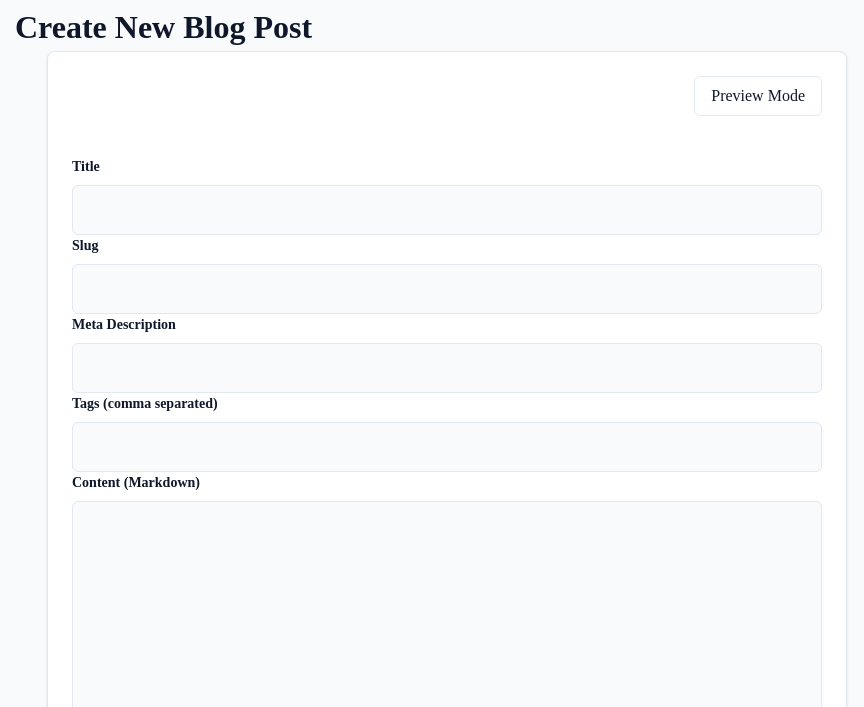
it: CreateBlogPostContainer › toggles preview mode with empty content
Switch to preview without adding content
Click the button "Preview Mode" at x=758, y=96, box [694, 76, 822, 116]
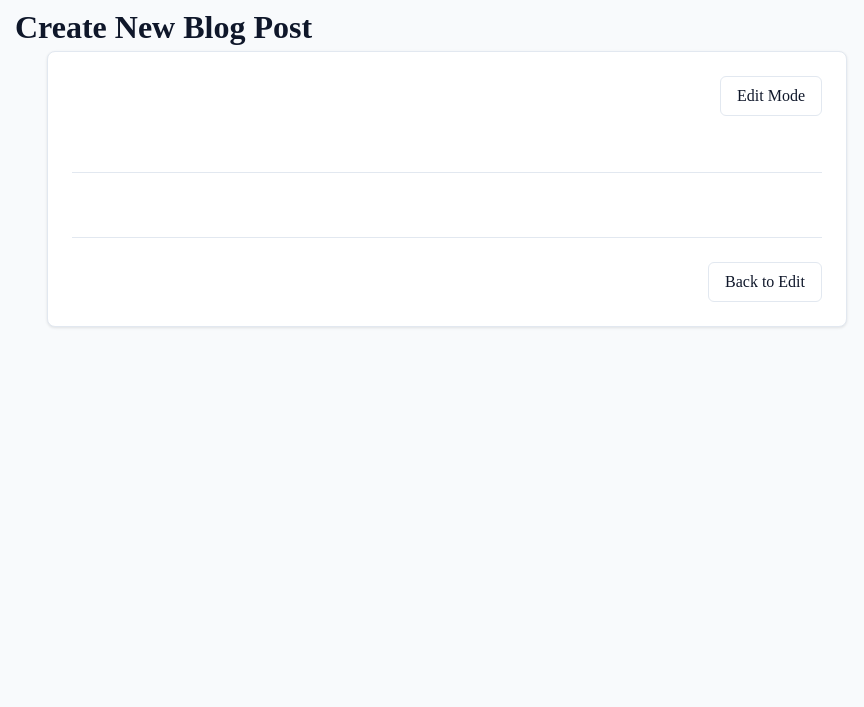
expect the button "Edit Mode" is shown: met, box [720, 76, 822, 116]
